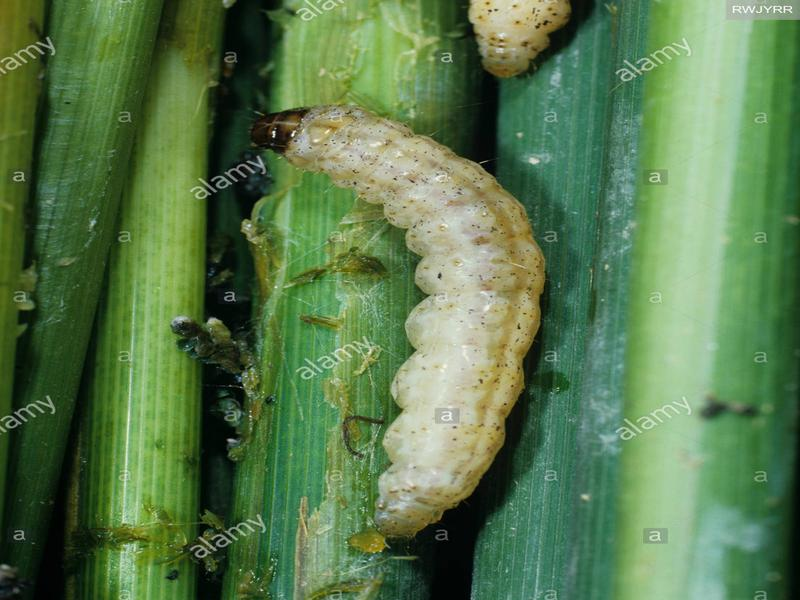Rice_skipper: (237, 94, 566, 546)
